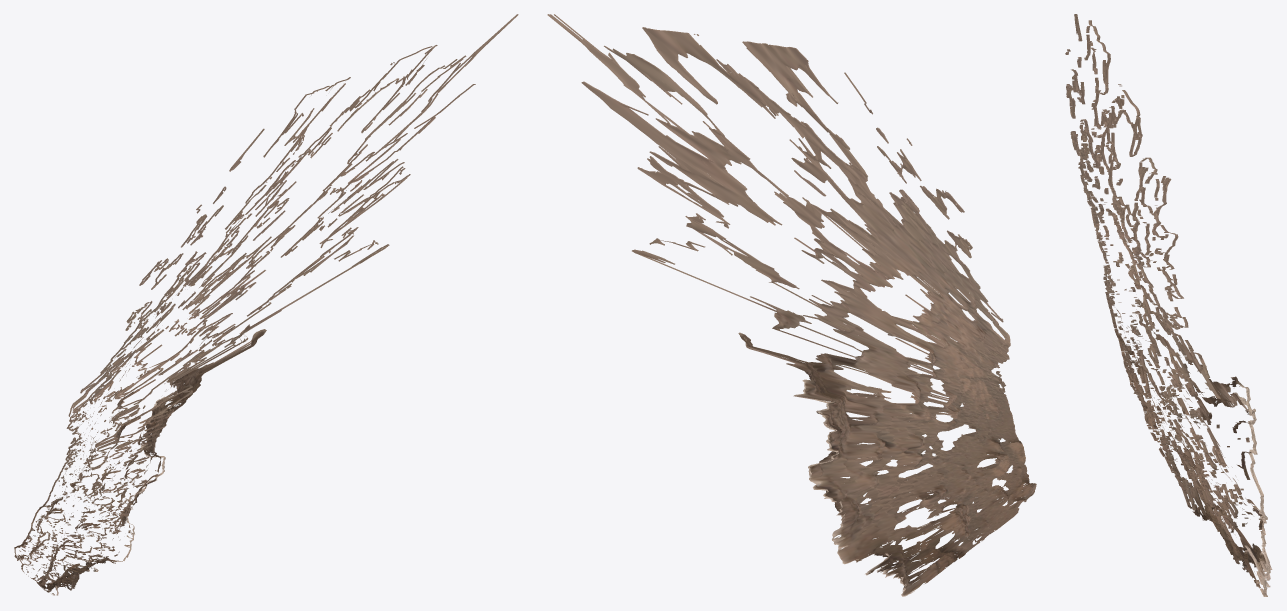
3 views of the same model, side by side, from view 1: azimuth 30°, elevation 25°; view 2: azimuth 150°, elevation 25°; view 3: azimuth 270°, elevation 25° (orthographic). The views are drawn at different scales.
Bounding box in the file's own units: 25.78 × 24 × 6.62.
1 material, 1 textured.
